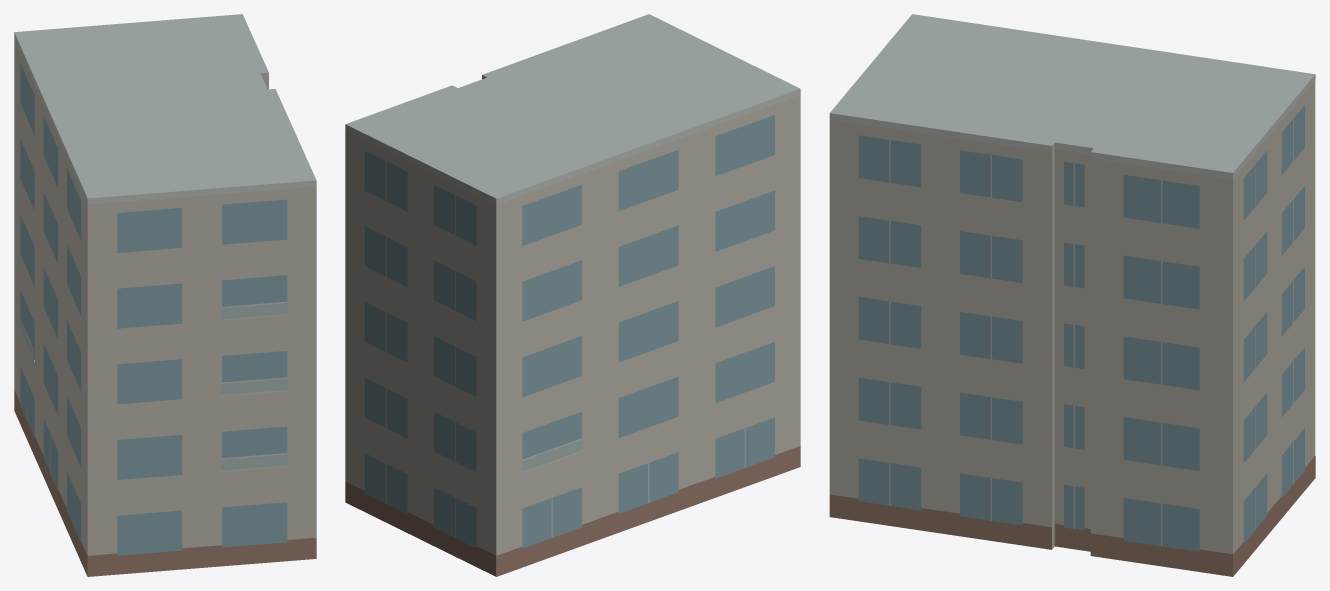
Rendered from survey-upis-32888510.glb.
3 renders of one model, left to right at view 1: azimuth 30°, elevation 25°; view 2: azimuth 150°, elevation 25°; view 3: azimuth 270°, elevation 25°, orthographic. The views are drawn at different scales.
Parts seen in each view (by area): view 1: survey-upis-32888510.tmp; view 2: survey-upis-32888510.tmp; view 3: survey-upis-32888510.tmp.
Boxes of the visible parts, left/top/right/bottom form: survey-upis-32888510.tmp: left=14, top=14, right=316, bottom=576; survey-upis-32888510.tmp: left=345, top=14, right=800, bottom=576; survey-upis-32888510.tmp: left=829, top=14, right=1315, bottom=576.
Size of the model in its own units: 12.67 by 15 by 16.36.
